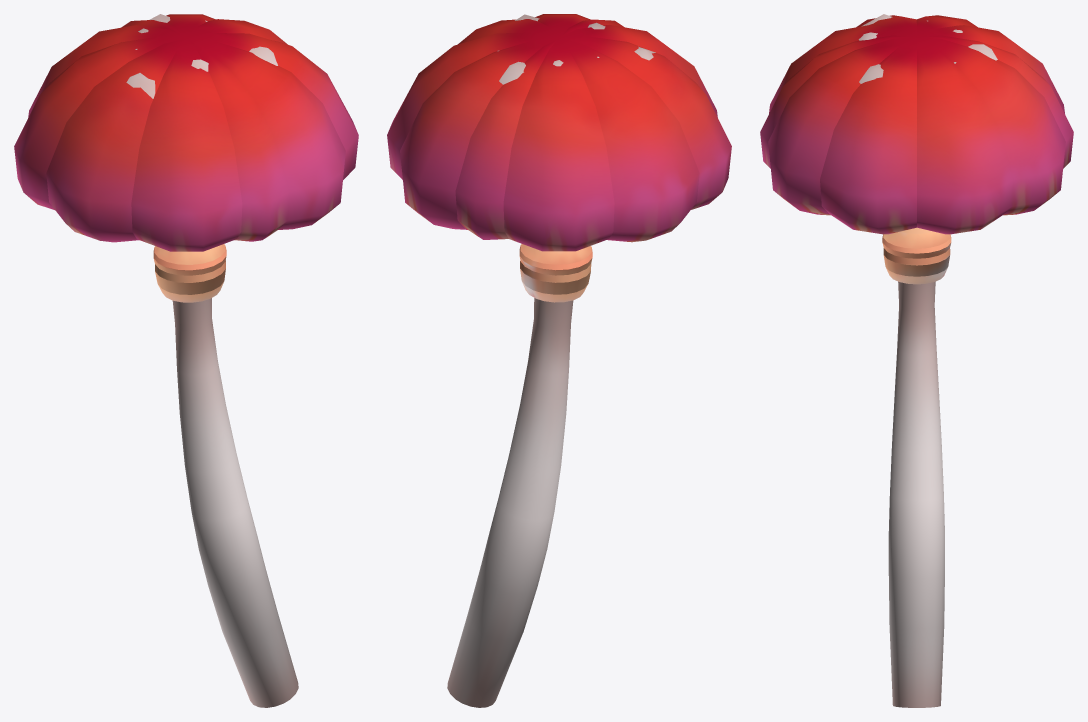
File: Long_mushroom_4.fbx
3 views of the same model, side by side, from view 1: azimuth 30°, elevation 25°; view 2: azimuth 150°, elevation 25°; view 3: azimuth 270°, elevation 25° (orthographic). The views are drawn at different scales.
Visible parts, largest first — view 1: Object019, Object020, Cylinder010; view 2: Object019, Object020, Cylinder010; view 3: Object019, Object020, Cylinder010.
Boxes of the visible parts, box(x1,y1,x2,y2) form: Object019: box(14, 14, 358, 251); Object020: box(153, 244, 298, 707); Cylinder010: box(126, 14, 277, 98); Object019: box(387, 14, 731, 251); Object020: box(447, 244, 592, 707); Cylinder010: box(497, 14, 655, 84); Object019: box(760, 15, 1073, 234); Object020: box(882, 227, 951, 707); Cylinder010: box(858, 14, 997, 83).
Size of the model in its own units: 3.08 by 6.94 by 3.1.
